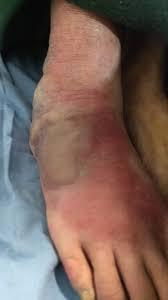Spider: (14, 55, 158, 260)
